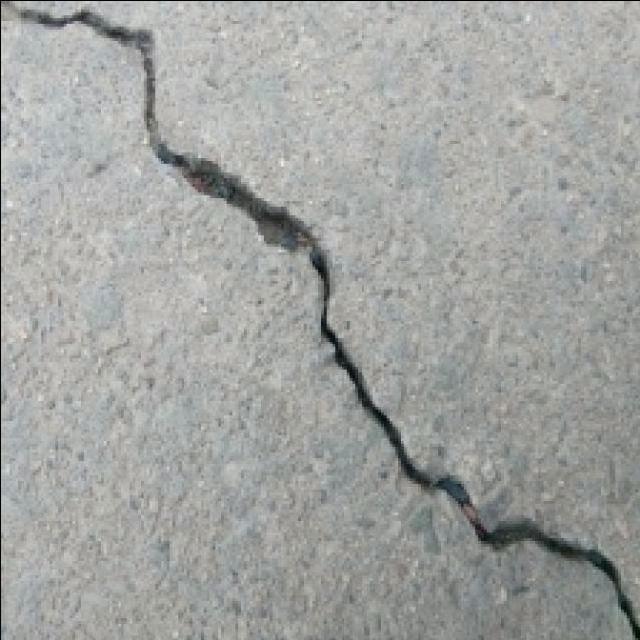SurfaceCrack: (20, 0, 634, 628)
